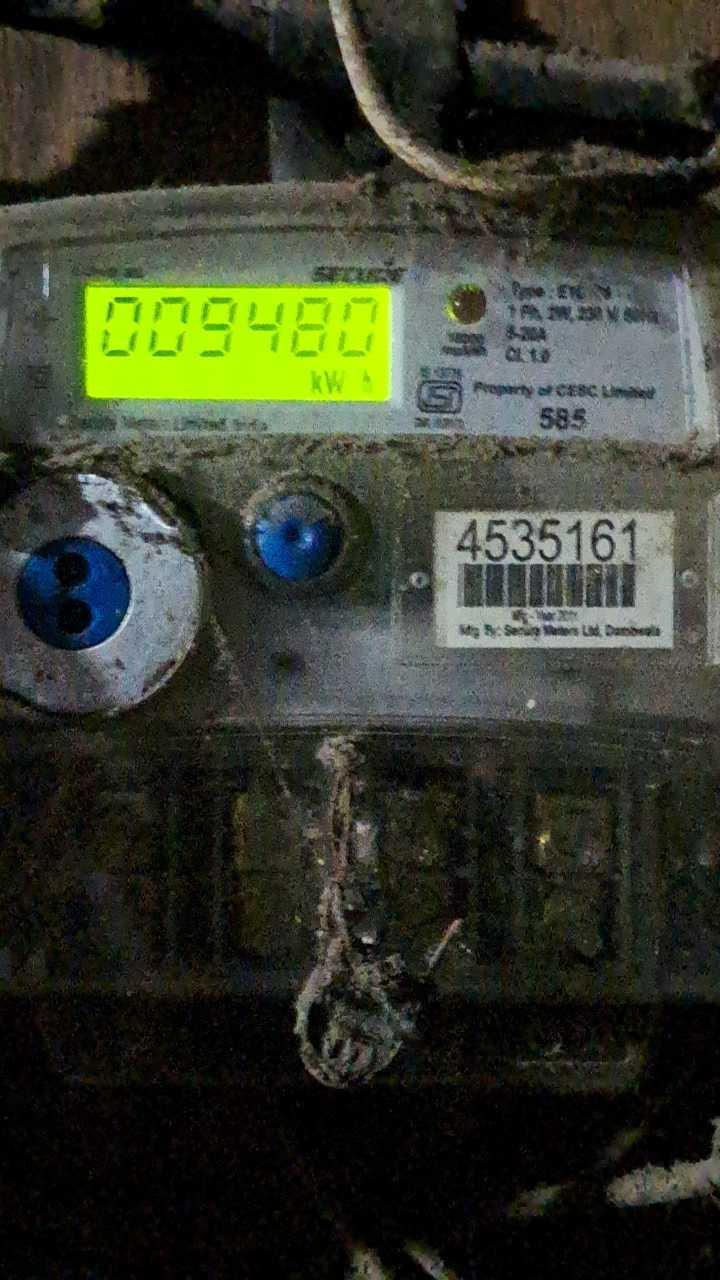meter_readings: (85, 289, 389, 368)
serial_number: (451, 520, 646, 561)
